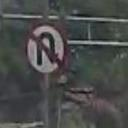NoVirarU: (25, 22, 67, 76)
